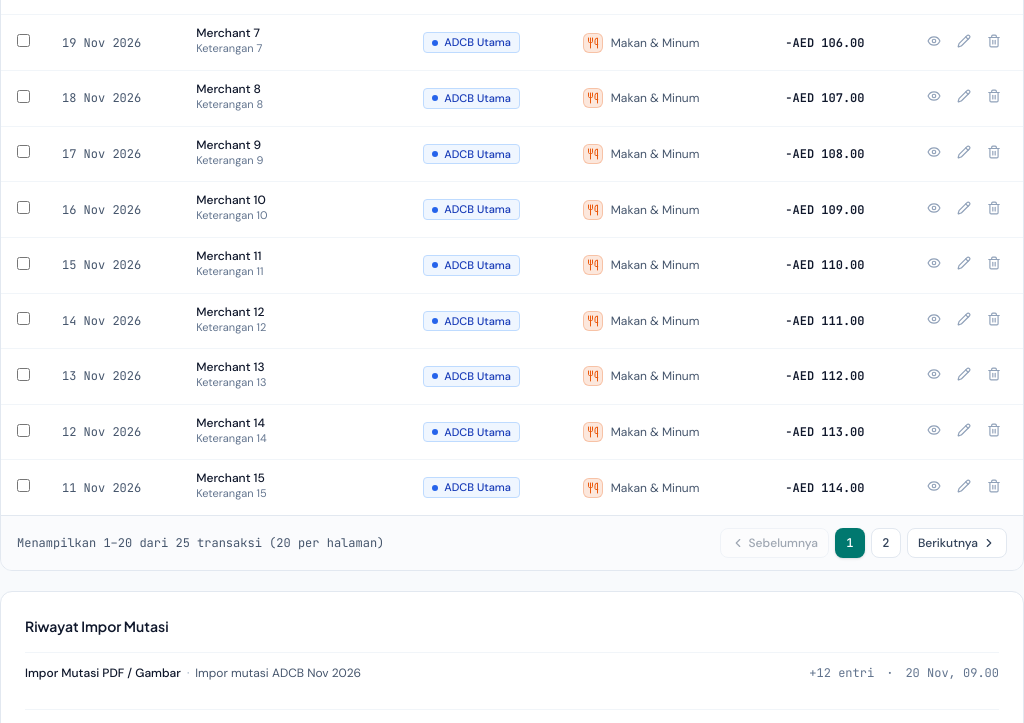
Scenario: TransactionsView (Sumber Dana, Detail History, Import Logs, Pagination & Bulk Delete) › renders Sumber Dana column (without Dicatat Oleh column in table), Riwayat Impor Mutasi below list, and recorder history inside Detail Modal
This screenshot has width=1024, height=723.
(page scrolled)
Expected: the column heading "Dicatat Oleh" is not shown
Expected: the heading "Riwayat Impor Mutasi" is shown, [25,617,169,635]
# Navigate to page 2
Click the button with aria-label "Halaman berikutnya": (957, 543) [907,528,1007,558]
(page scrolled)
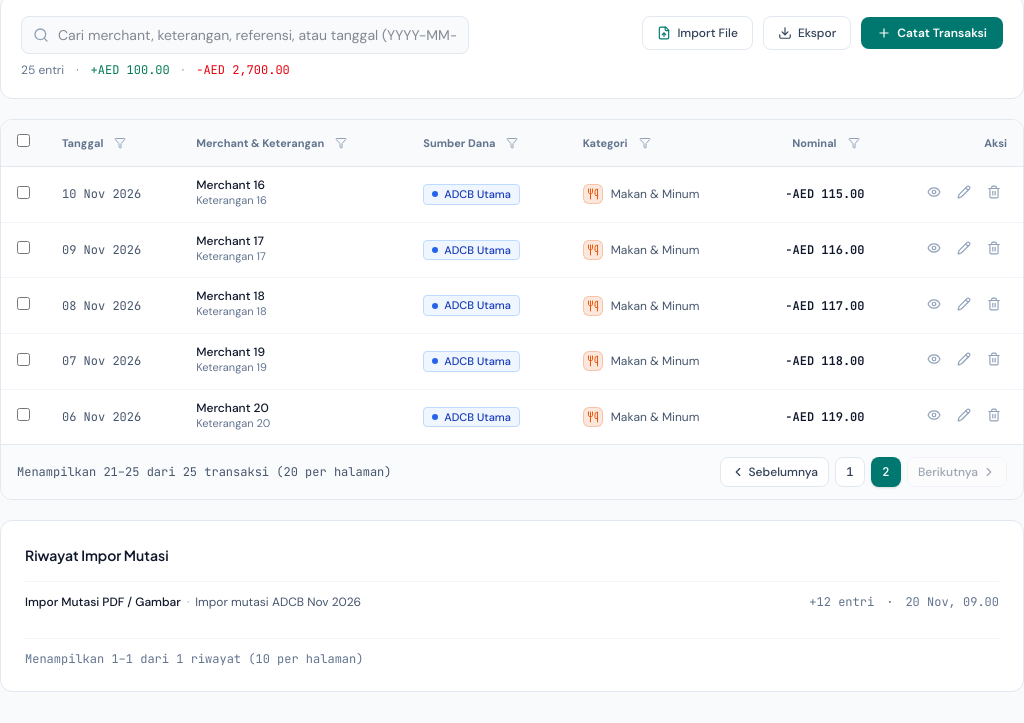
Now the text "Menampilkan 21–25 dari 25 transaksi (20 per halaman)" is shown, box [17,464,392,480]
# Go back to page 1 and open Detail Modal for Payroll Khusus
Click the button with aria-label "Halaman sebelumnya": (774, 472) [720,457,829,487]
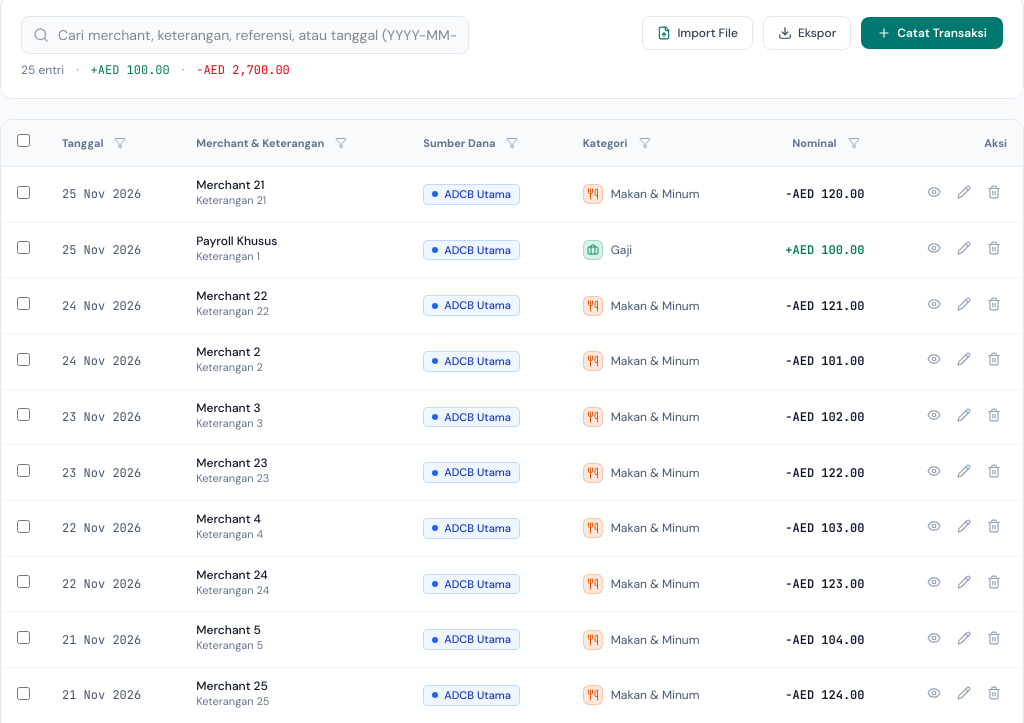
Click the text "Payroll Khusus": (237, 241) [196,233,278,249]
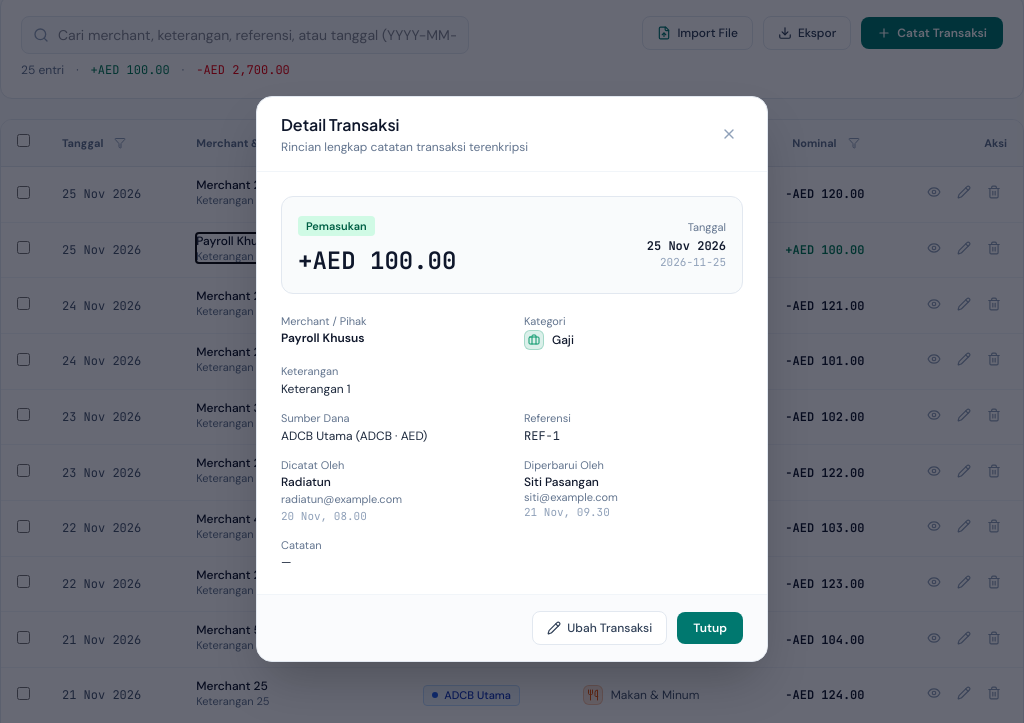
Now the heading "Detail Transaksi" is shown, box [281,114,400,135]
Now the text "ADCB Utama (ADCB · AED)" is shown, box [281,428,427,444]
Now the text "Dicatat Oleh" is shown, box [281,458,344,472]
